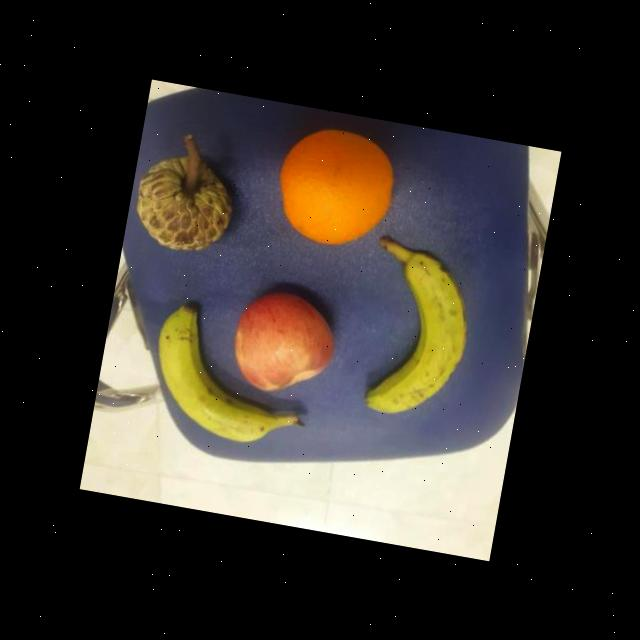Sakya fruit: (126, 146, 243, 262)
apple: (225, 280, 344, 406)
banana: (352, 246, 482, 434), (140, 295, 291, 448)
orange: (270, 120, 402, 256)
